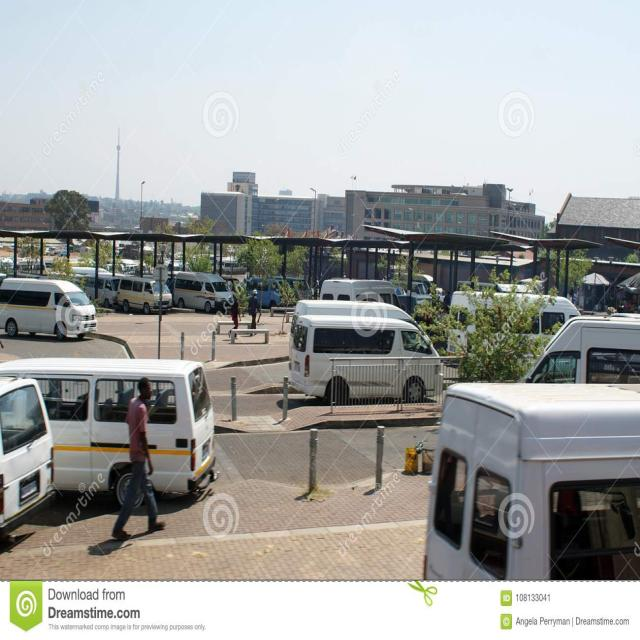MiniBus taxi: (287, 317, 453, 401), (1, 379, 56, 532), (0, 278, 98, 340), (116, 275, 172, 318)
Pedestrians: (110, 376, 167, 540)
